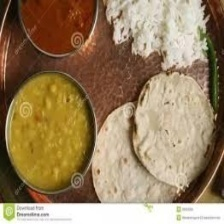rice: (104, 0, 210, 70)
